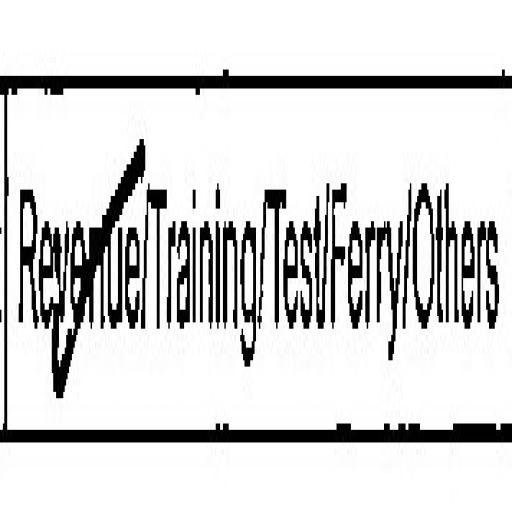check: (2, 0, 150, 512)
